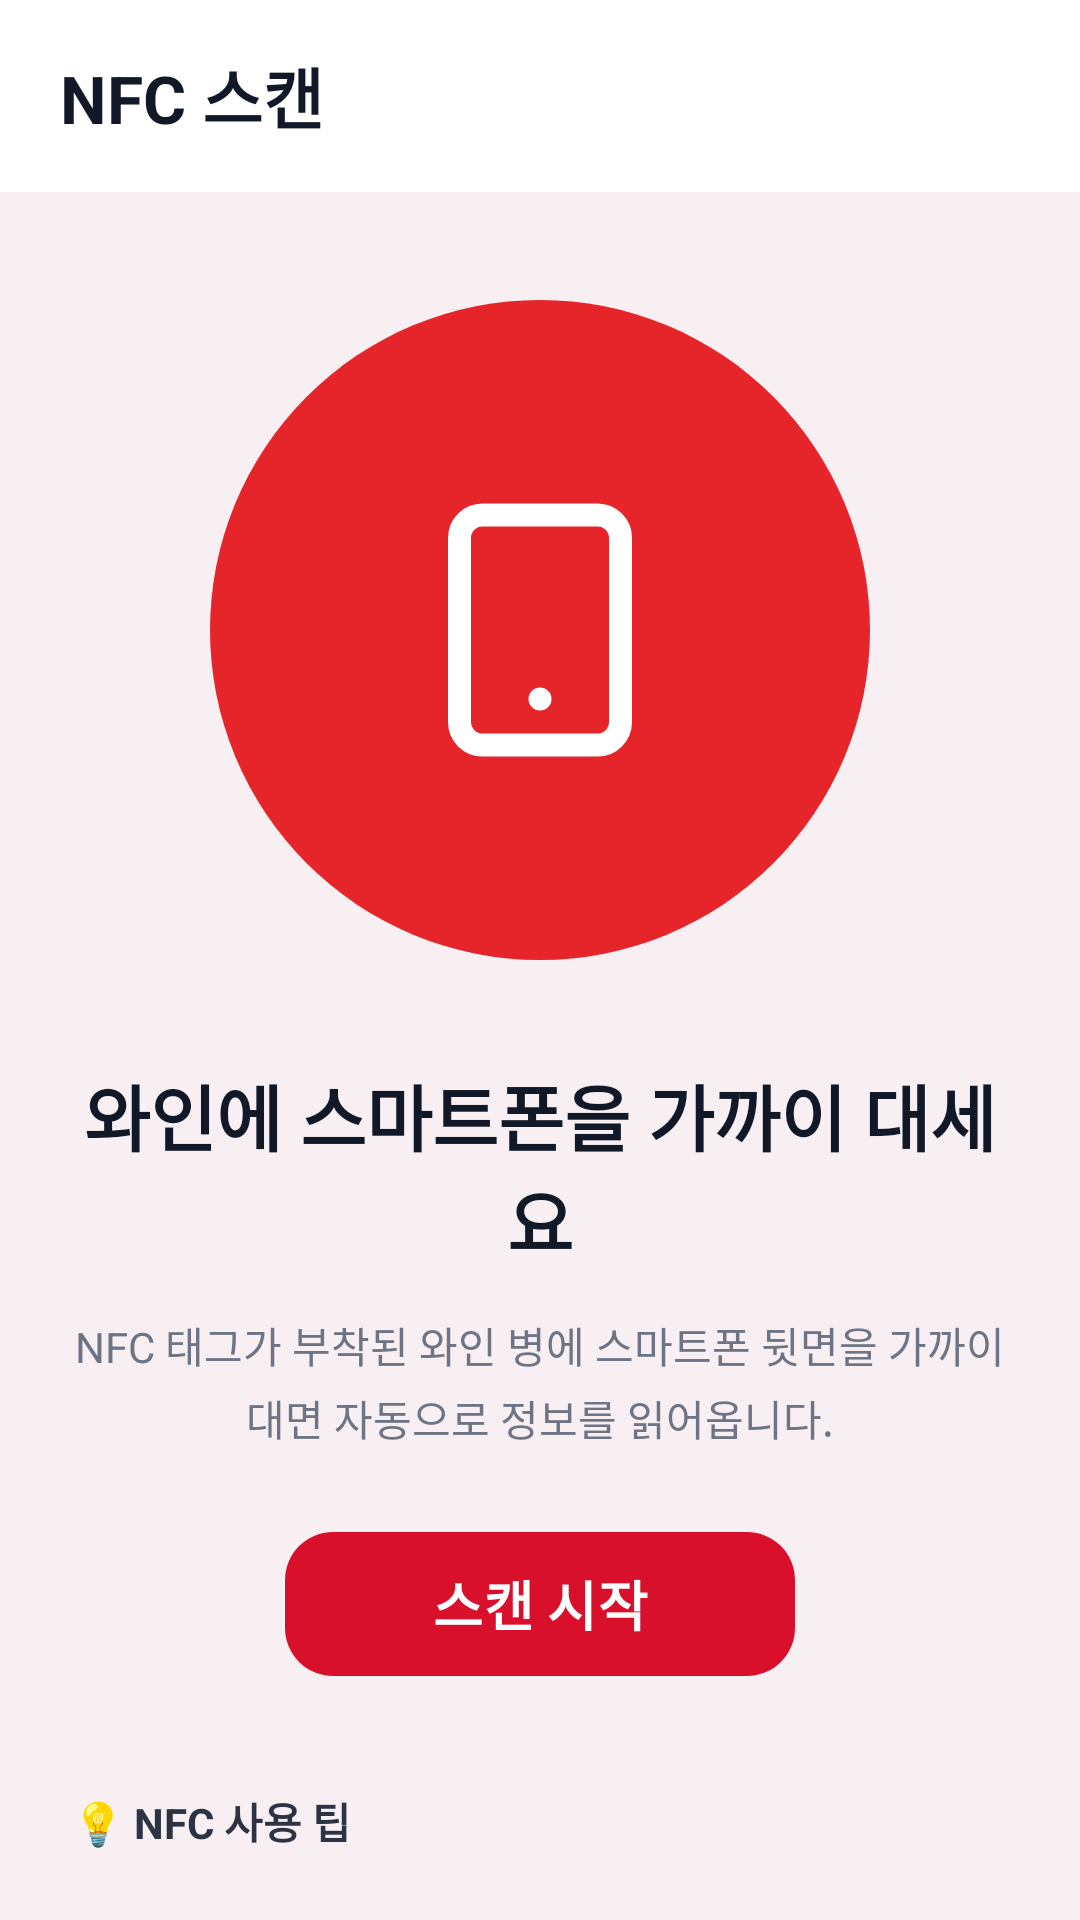

Where icons sit on this 1080 × 1920 app screen, as [x1=x1, y1=y1, x2=x2, y2=y2]:
smartphone: [x1=448, y1=503, x2=632, y2=757]
